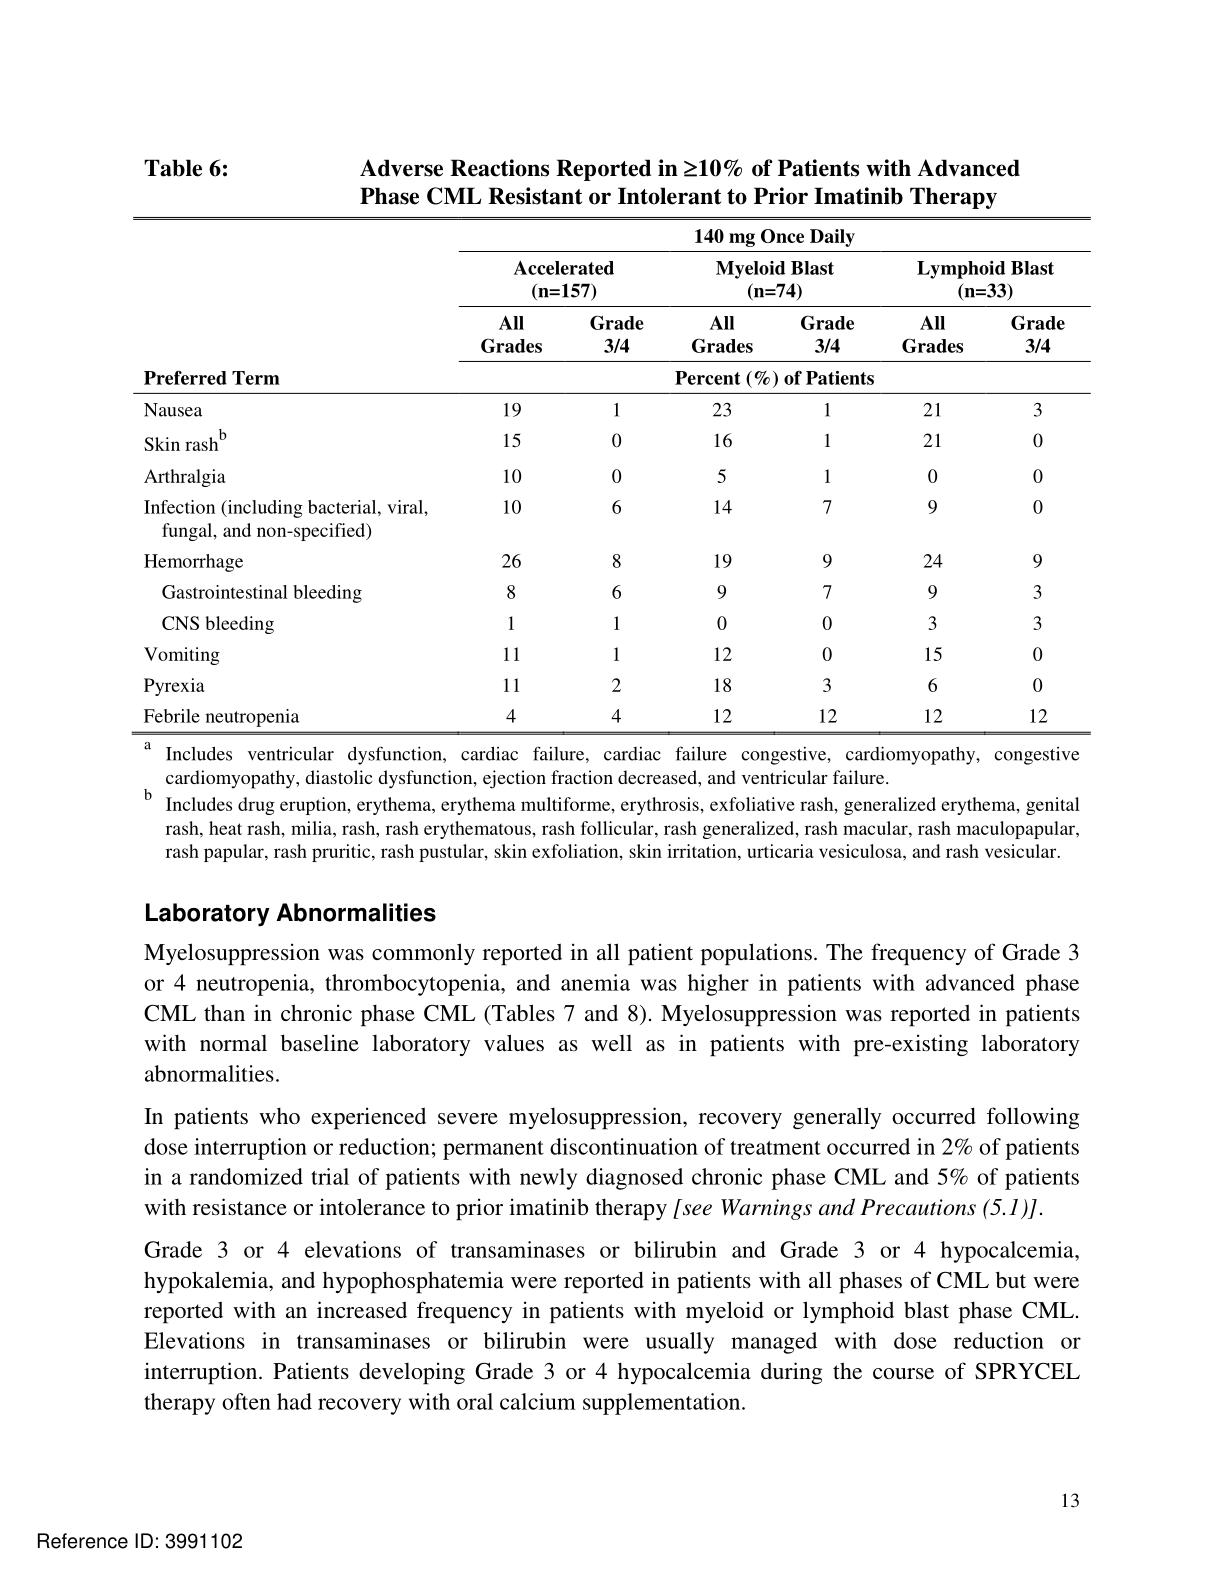partial_lined_merged_cells: (132, 216, 1092, 735)
